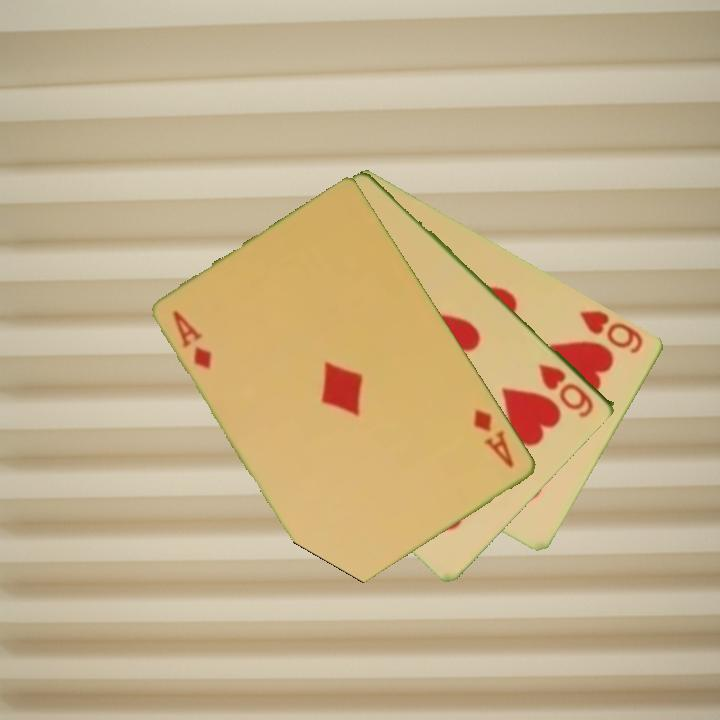6h: (535, 360, 598, 421), (576, 306, 647, 357)
Ad: (470, 405, 518, 471), (169, 307, 216, 373)
